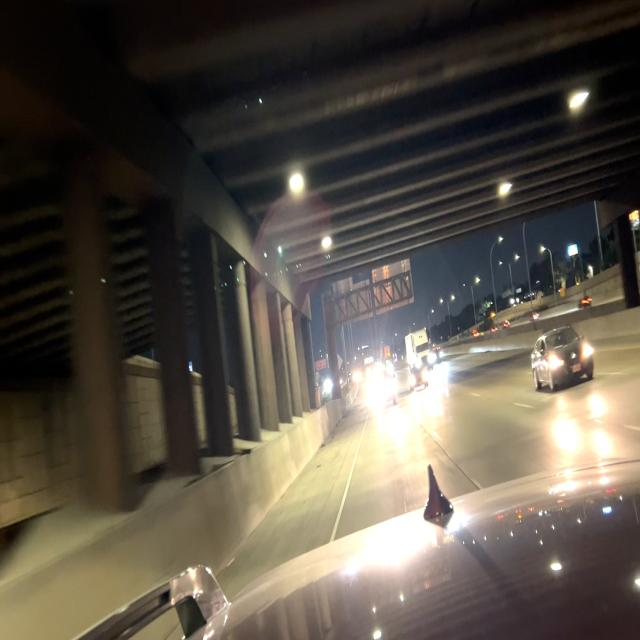back-of-sign: (329, 255, 415, 327)
